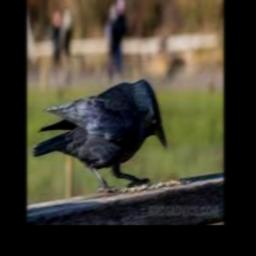Crow: (32, 78, 167, 193)
